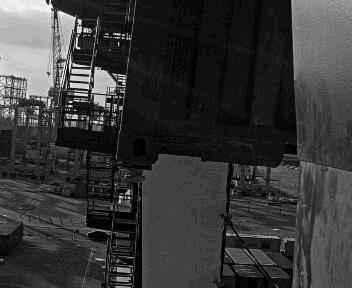twist_lock_1: (129, 160, 170, 190)
